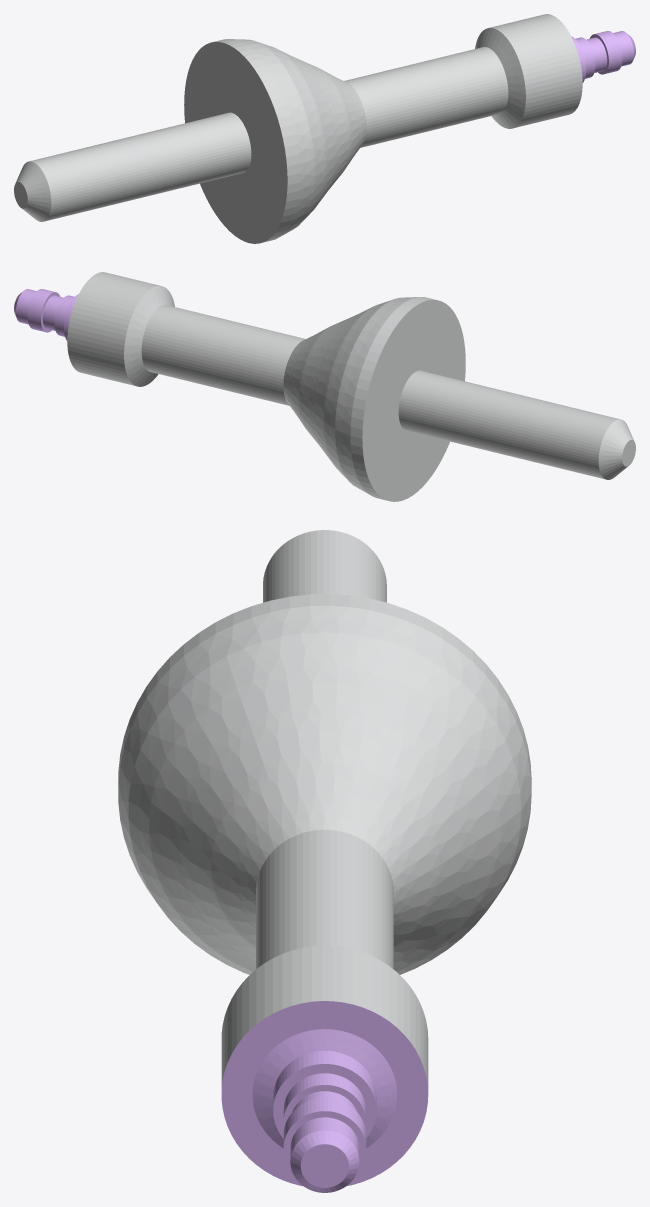
File: imsp0233-015.glb
3 views of the same model, one above another, from view 1: azimuth 30°, elevation 25°; view 2: azimuth 150°, elevation 25°; view 3: azimuth 270°, elevation 25° (orthographic). The views are drawn at different scales.
Parts seen in each view (by area): view 1: steel_0, accent-faces_1; view 2: steel_0, accent-faces_1; view 3: steel_0, accent-faces_1.
Boxes of the visible parts, left/top/right/bottom form: steel_0: left=14, top=14, right=582, bottom=243; accent-faces_1: left=571, top=31, right=635, bottom=82; steel_0: left=67, top=272, right=635, bottom=501; accent-faces_1: left=14, top=289, right=78, bottom=340; steel_0: left=118, top=530, right=531, bottom=1091; accent-faces_1: left=221, top=1001, right=428, bottom=1192.
Bounding box in the file's own units: 20.4 × 6 × 6.
